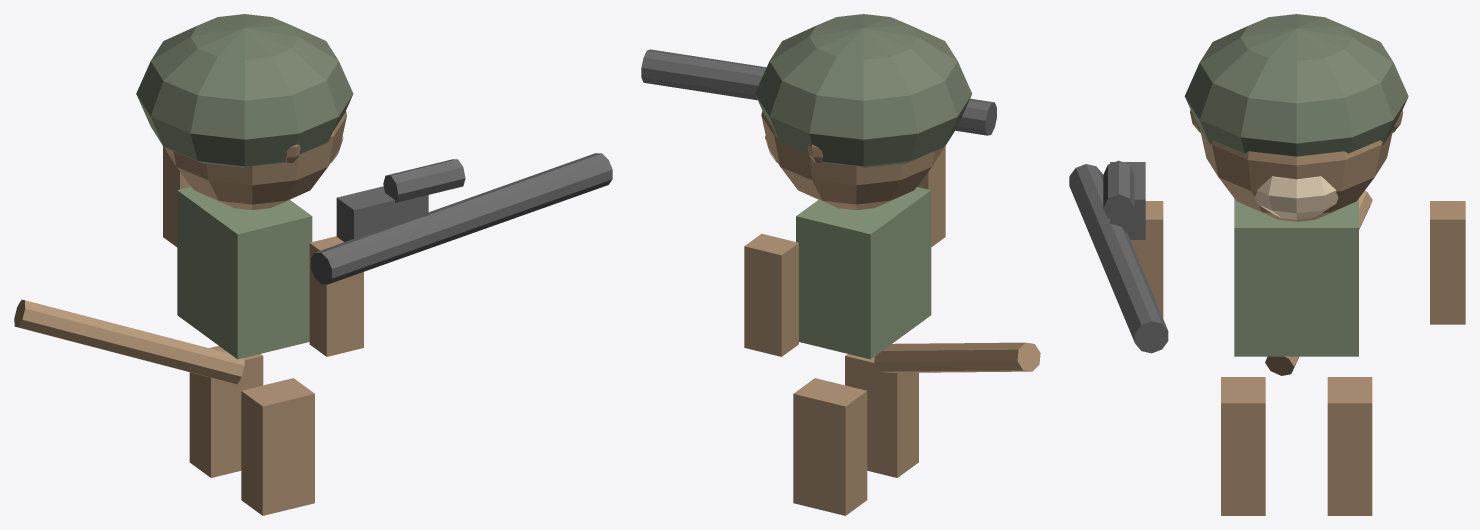
Rendered from tower_sniper.glb.
3 views of the same model, side by side, from view 1: azimuth 30°, elevation 25°; view 2: azimuth 150°, elevation 25°; view 3: azimuth 270°, elevation 25° (orthographic). The views are drawn at different scales.
Visible parts, largest first — view 1: tower_sniper; view 2: tower_sniper; view 3: tower_sniper.
Boxes of the visible parts, x1,y1,x2,y2 form: tower_sniper: [14, 14, 612, 515]; tower_sniper: [641, 14, 1040, 515]; tower_sniper: [1069, 14, 1465, 515].
Bounding box in the file's own units: 1.91 × 1.7 × 1.3.
